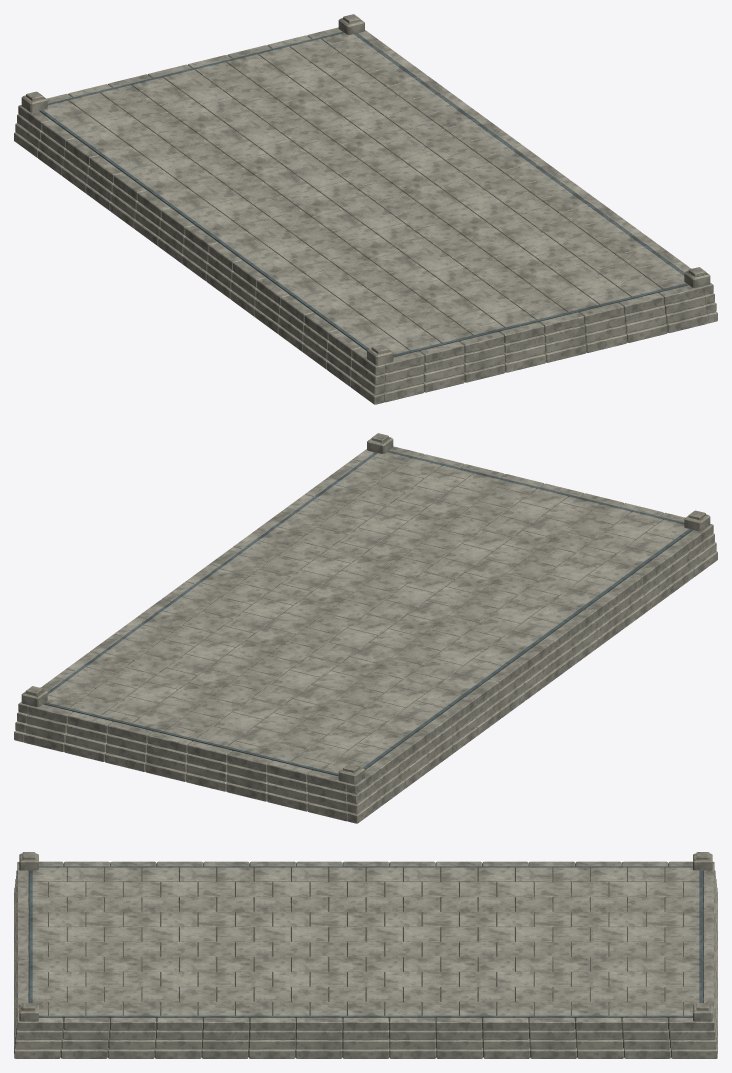
The model's file is arena_04.fbx.
3 views of the same model, one above another, from view 1: azimuth 30°, elevation 25°; view 2: azimuth 150°, elevation 25°; view 3: azimuth 270°, elevation 25° (orthographic). The views are drawn at different scales.
Parts seen in each view (by area): view 1: arena_04; view 2: arena_04; view 3: arena_04.
Boxes of the visible parts, left/top/right/bottom form: arena_04: left=14, top=14, right=717, bottom=404; arena_04: left=14, top=433, right=717, bottom=823; arena_04: left=14, top=852, right=717, bottom=1058.
Bounding box in the file's own units: 55000 × 100000 × 7450.
